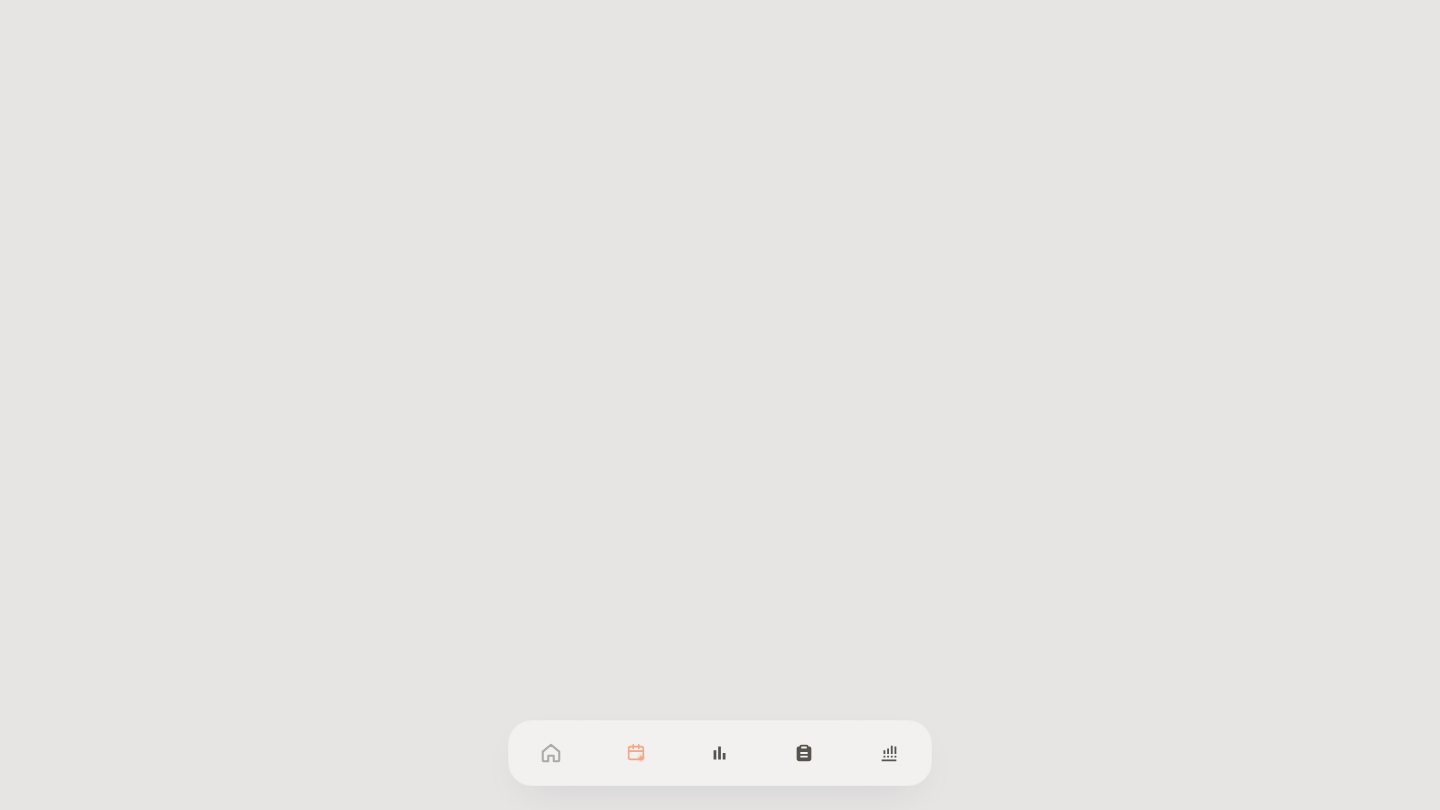
Test: 인라인 캘린더 열기 › 하단 통계·리포트 FAB가 표시되고 리포트 모달을 연다
Expected: the button named "일자별 통계 열기" is shown, left=678, top=729, right=762, bottom=777
Click the button named "일정 리포트 열기".
click(804, 753)  # box left=762, top=729, right=847, bottom=777
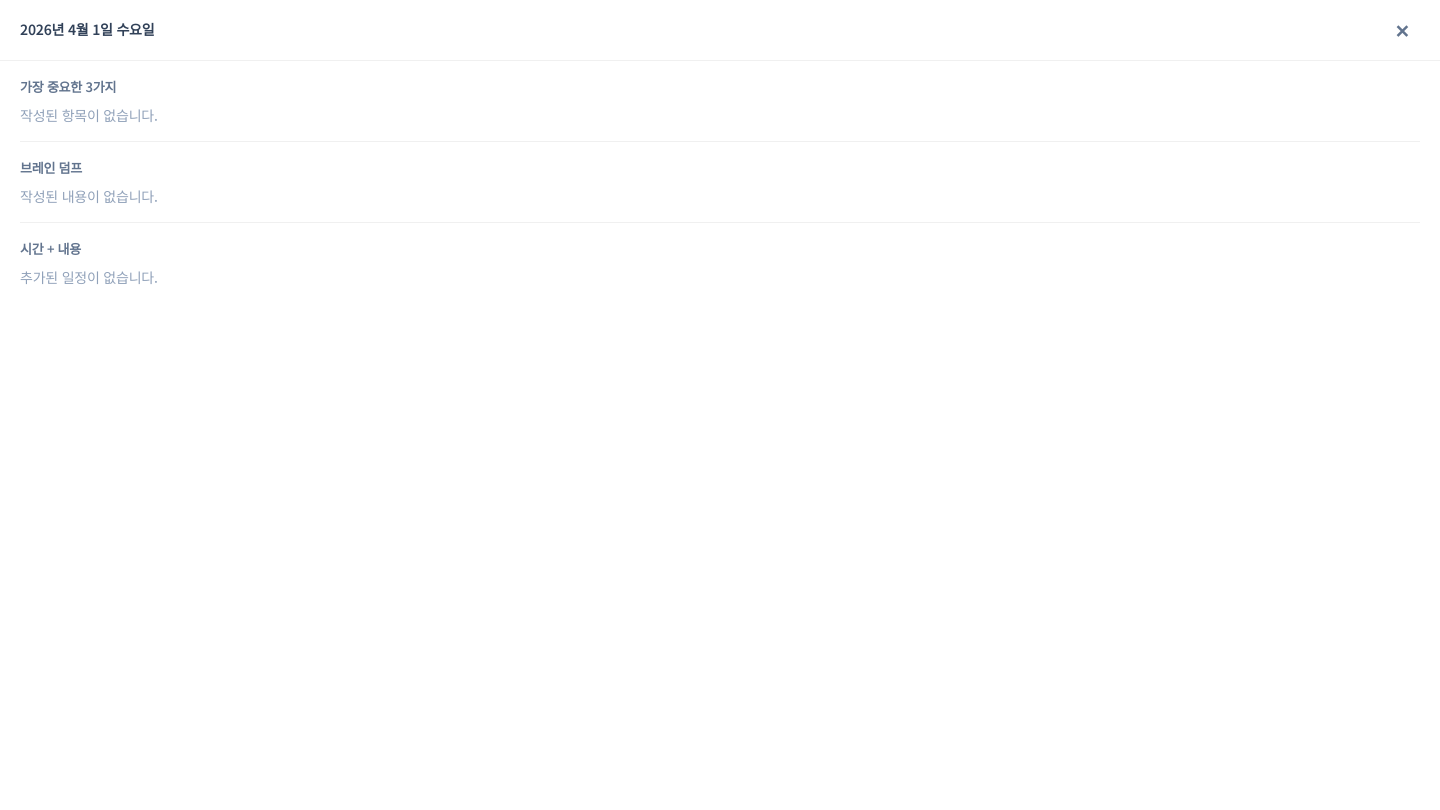
Expected: the heading "시간 + 내용" is shown, left=20, top=239, right=81, bottom=258
